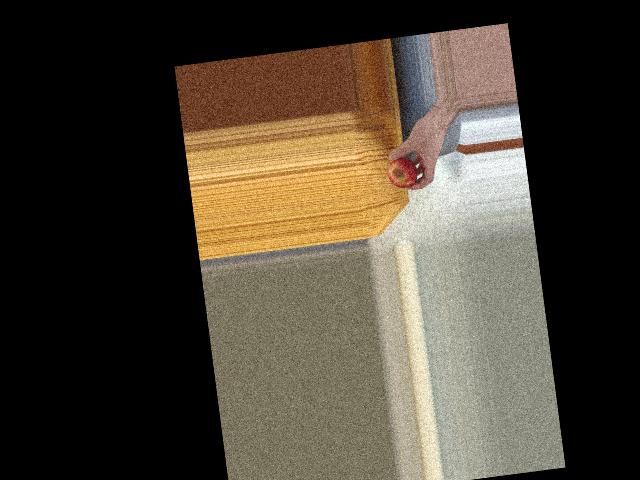apple: (385, 153, 419, 191)
